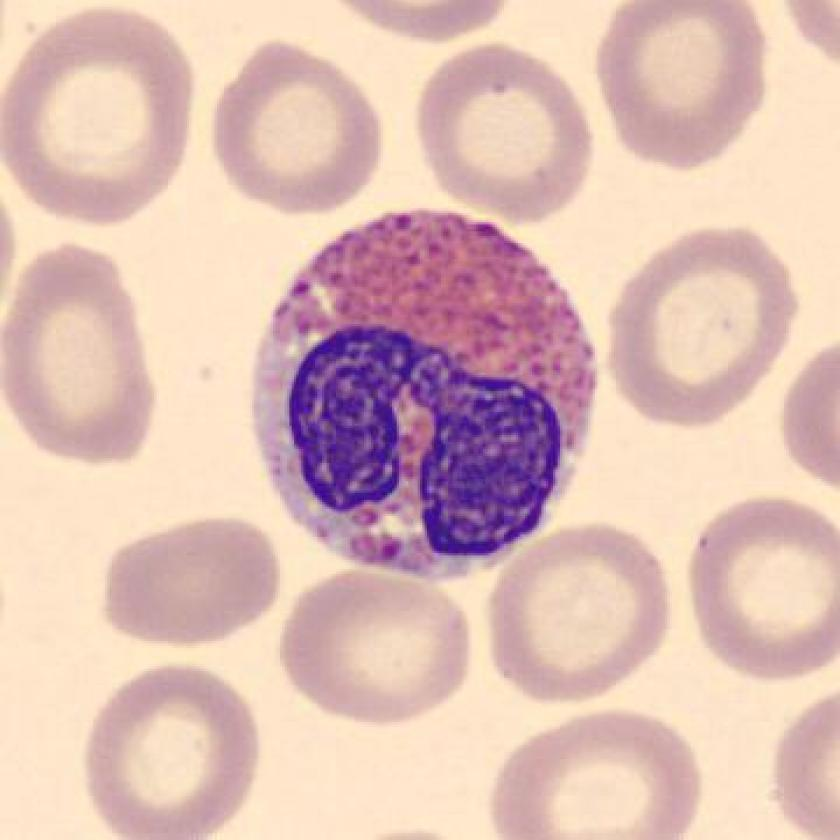eosinophil: (230, 193, 617, 593)
